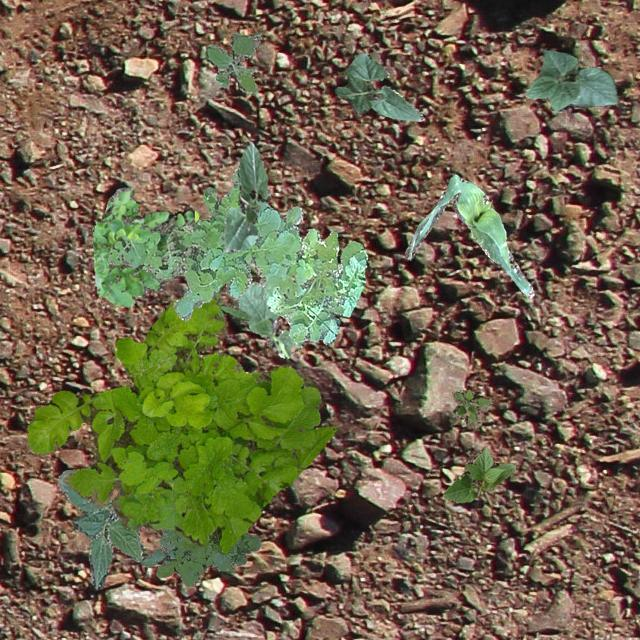crop: (403, 174, 532, 296), (56, 468, 142, 588), (334, 51, 422, 120), (524, 46, 616, 112), (237, 280, 306, 358), (222, 140, 270, 252), (442, 444, 514, 502)
weed: (27, 296, 336, 552), (106, 165, 366, 344), (90, 187, 198, 306), (138, 528, 260, 586), (204, 31, 262, 94), (212, 282, 250, 320), (452, 388, 489, 426)
